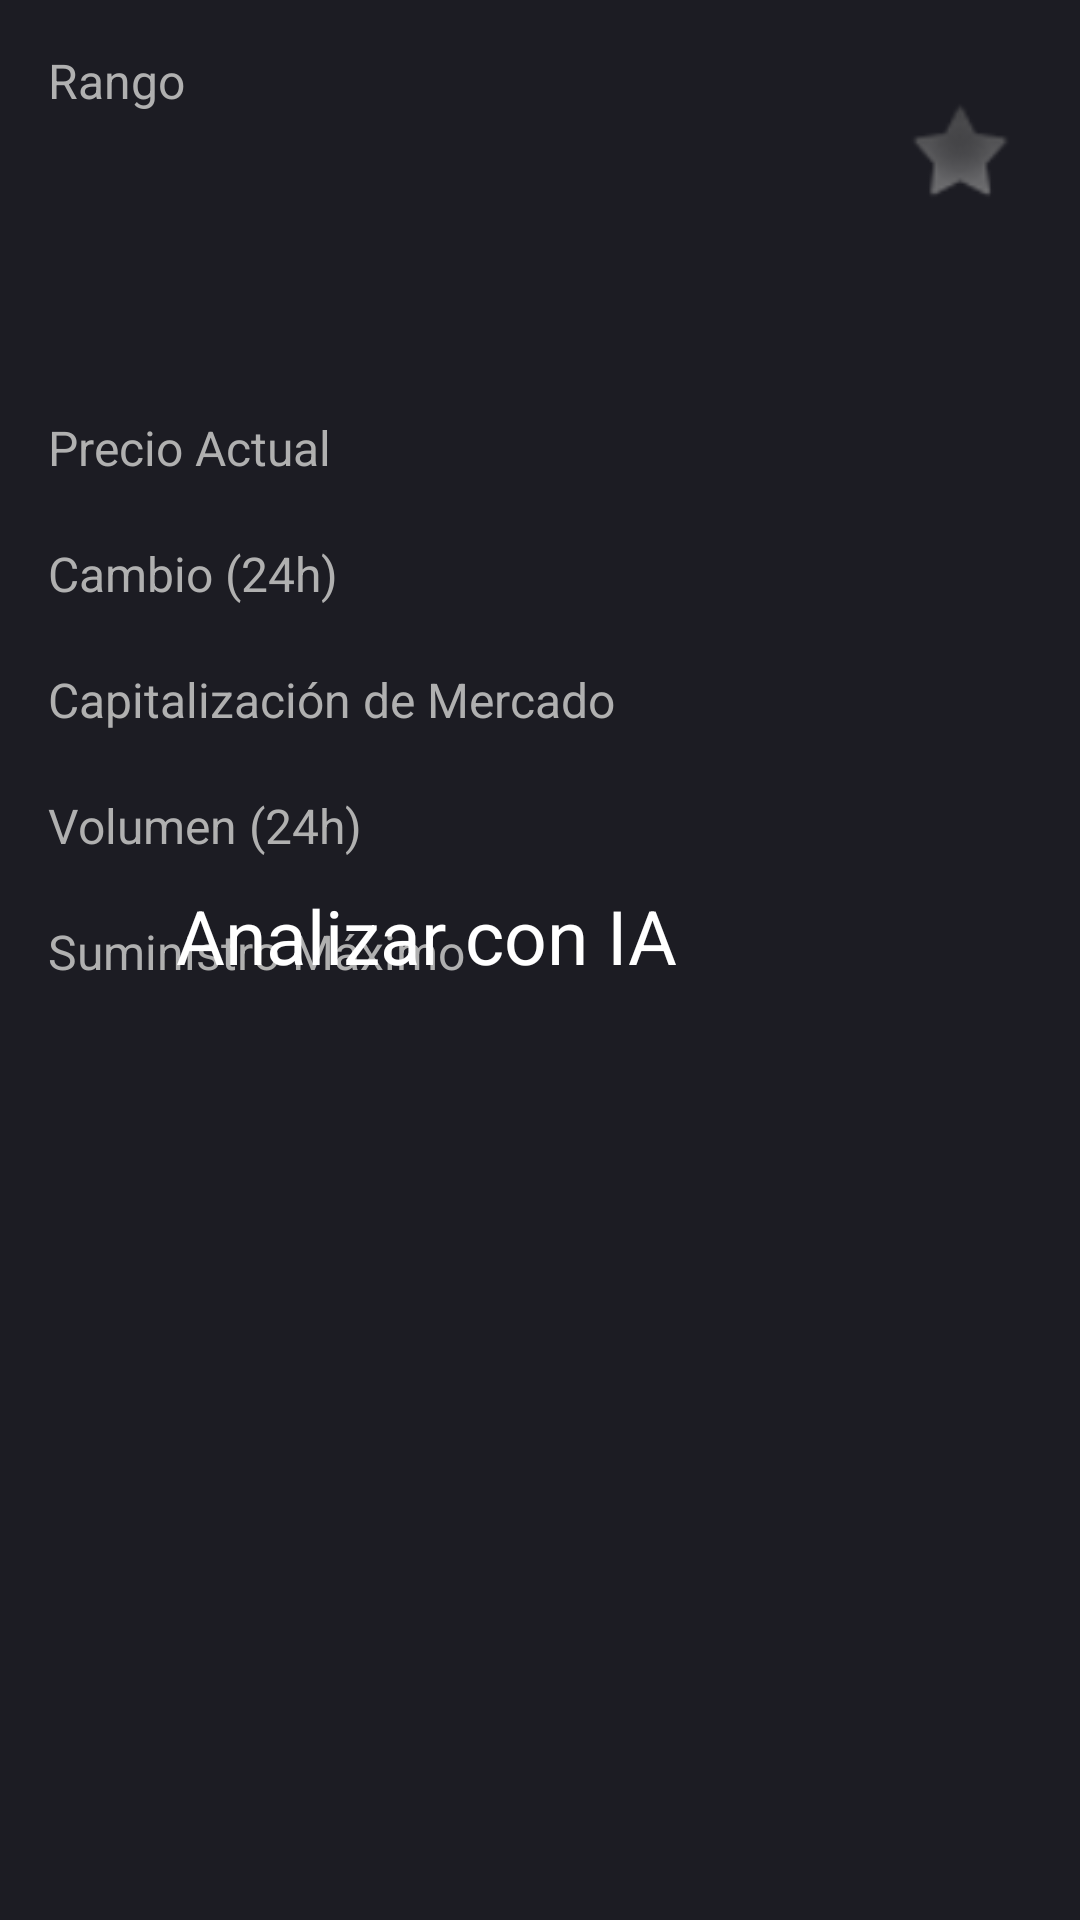

Point at icon controls on the screen. Image size 1080px x 1920px, points as (x=x, y=y).
star off: (x=961, y=151)
